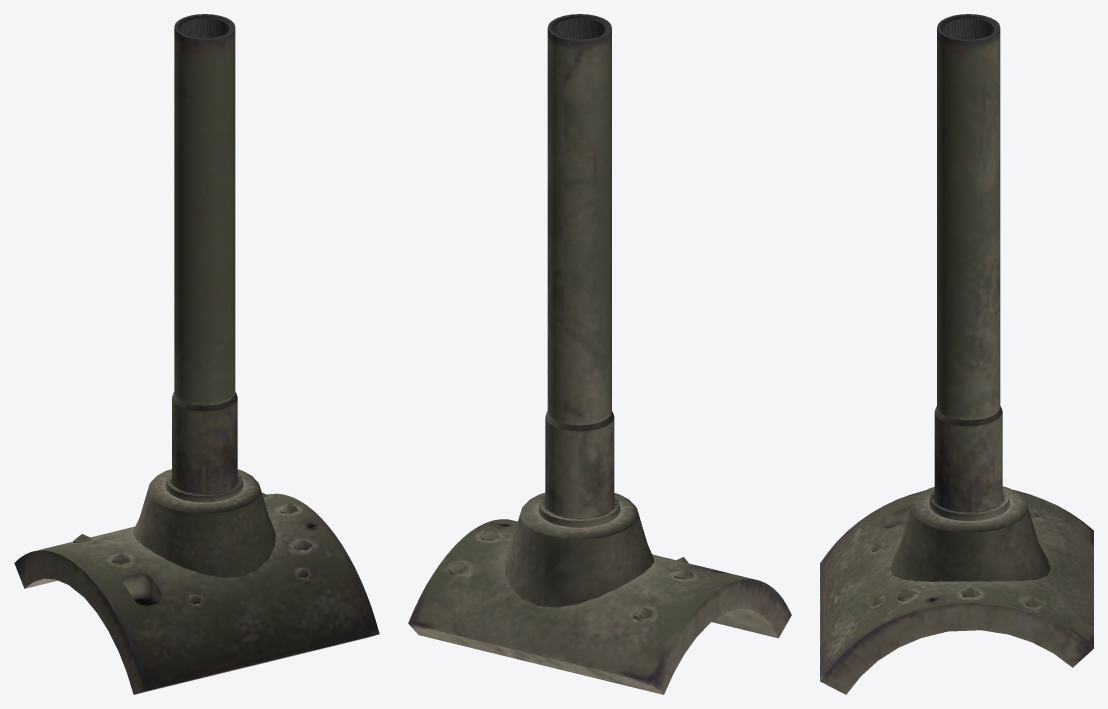
The model's file is Gun_03.glb.
The picture shows the model from 3 angles, left to right: view 1: azimuth 30°, elevation 25°; view 2: azimuth 150°, elevation 25°; view 3: azimuth 270°, elevation 25°; orthographic projection. The views are drawn at different scales.
Parts seen in each view (by area): view 1: set_0_group_0; view 2: set_0_group_0; view 3: set_0_group_0.
Boxes of the visible parts, x1,y1,x2,y2 form: set_0_group_0: (14, 14, 379, 694); set_0_group_0: (408, 14, 791, 694); set_0_group_0: (820, 14, 1093, 694).
Size of the model in its own units: 0.6619 by 1.61 by 0.6479.
Materials: 1 (1 with a texture image).
